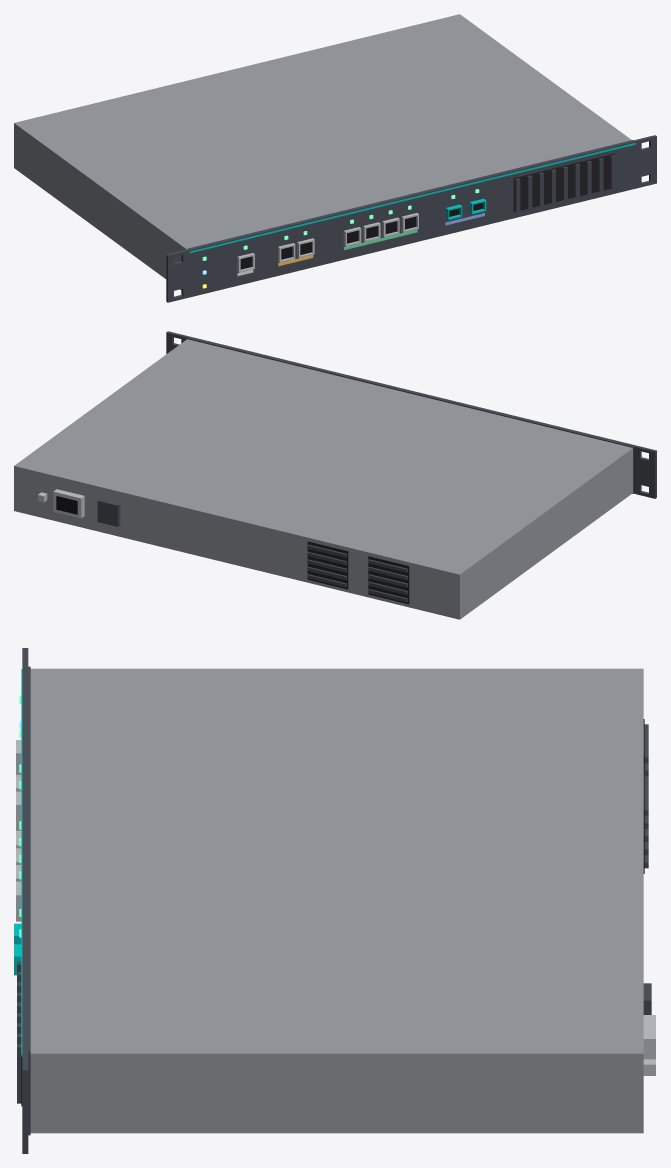
The model's file is Router_Rack.glb.
3 views of the same model, one above another, from view 1: azimuth 30°, elevation 25°; view 2: azimuth 150°, elevation 25°; view 3: azimuth 270°, elevation 25° (orthographic). The views are drawn at different scales.
Parts seen in each view (by area): view 1: Router_Rack; view 2: Router_Rack; view 3: Router_Rack.
Boxes of the visible parts, left/top/right/bottom form: Router_Rack: left=14, top=14, right=656, bottom=302; Router_Rack: left=14, top=331, right=656, bottom=619; Router_Rack: left=14, top=648, right=655, bottom=1153.
Size of the model in its own units: 0.4826 by 0.0444 by 0.3105.
